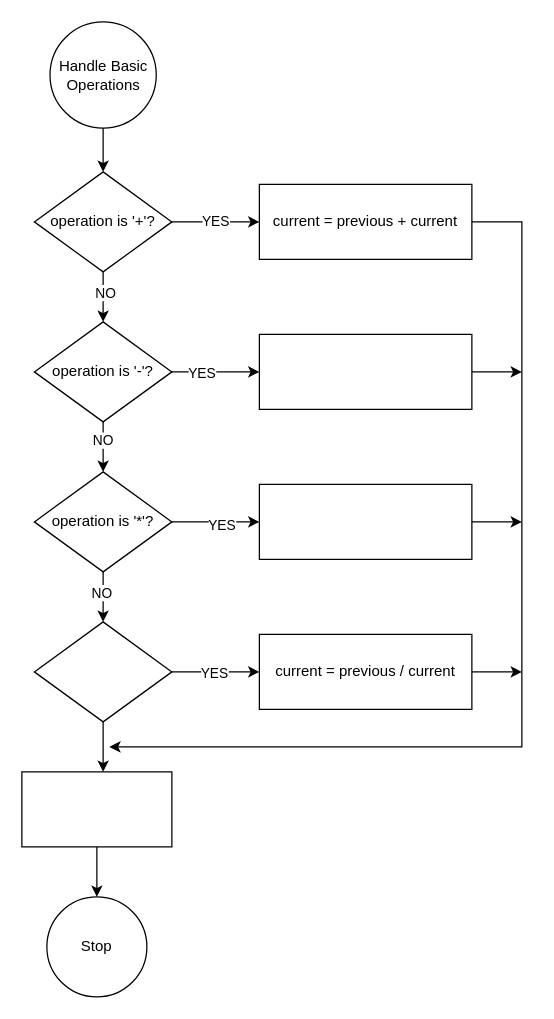
Some shapes in this 554 by 1019 pixel diagram are drawn without their labels. The box of each missing label's shape, as (x1, y1, x2, y2) in pixels:
current = previous * current: (258, 483, 472, 559)
current = previous - current: (258, 333, 472, 409)
operation is '/'?: (33, 621, 172, 722)
previous = 0 operation = null: (21, 771, 172, 847)
